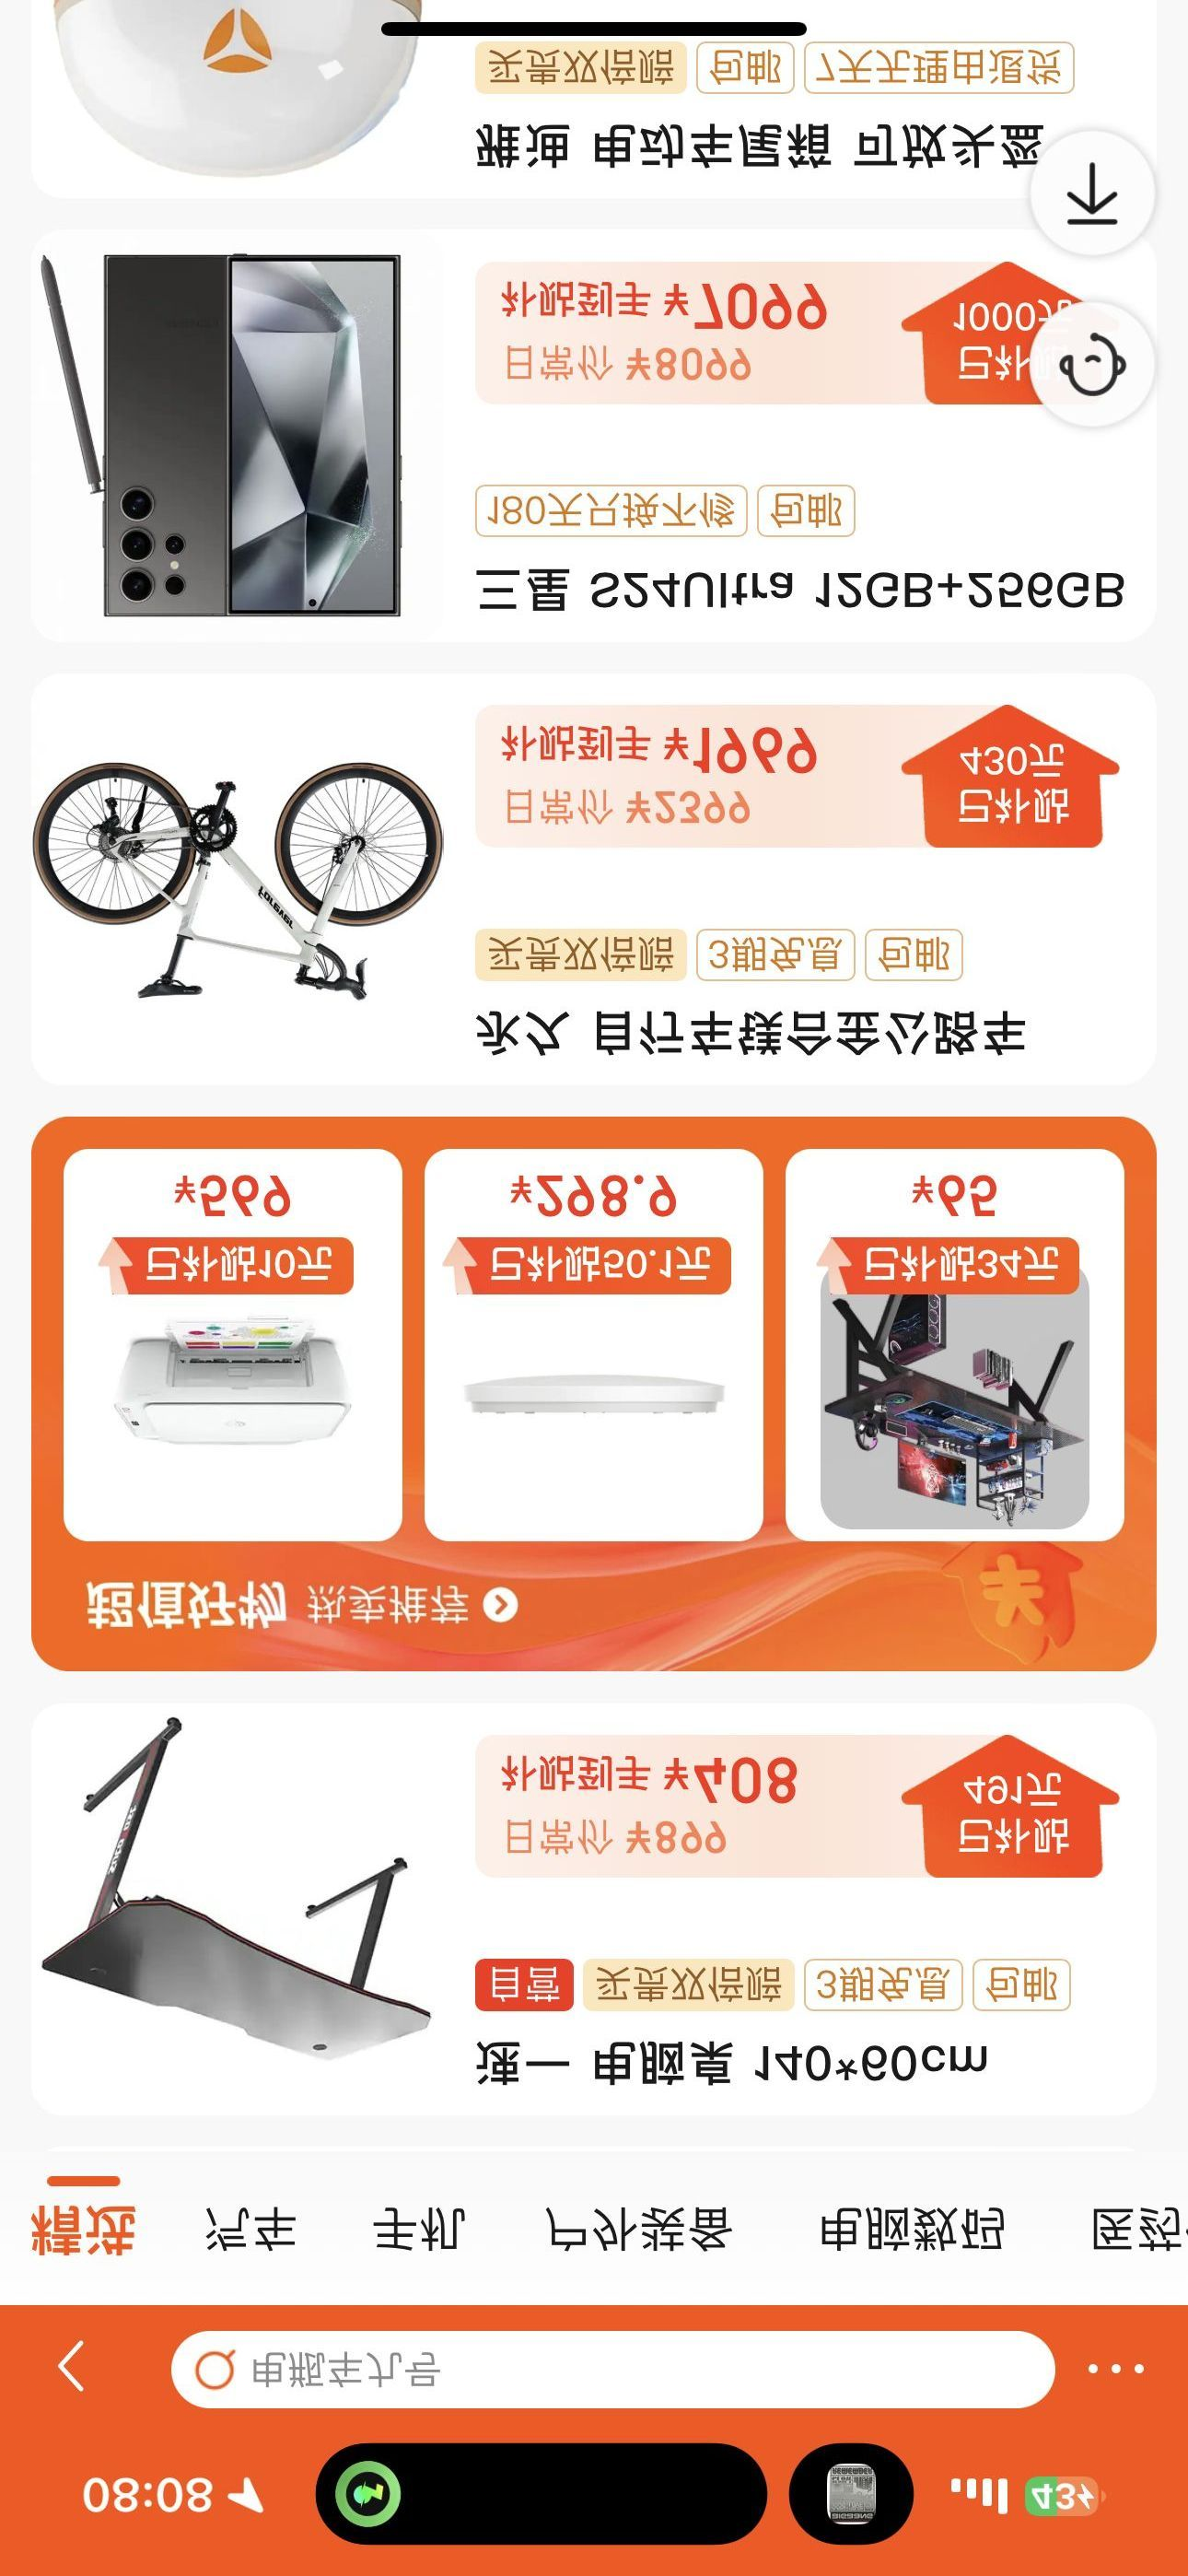banner: (20, 1107, 1162, 1671)
item: (28, 220, 1158, 646), (33, 664, 1172, 1081), (18, 1697, 1160, 2100)
op_bar: (2, 2318, 1178, 2430)
